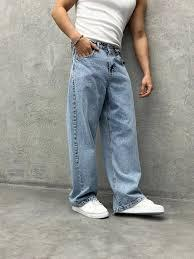jeans: (62, 35, 147, 208)
